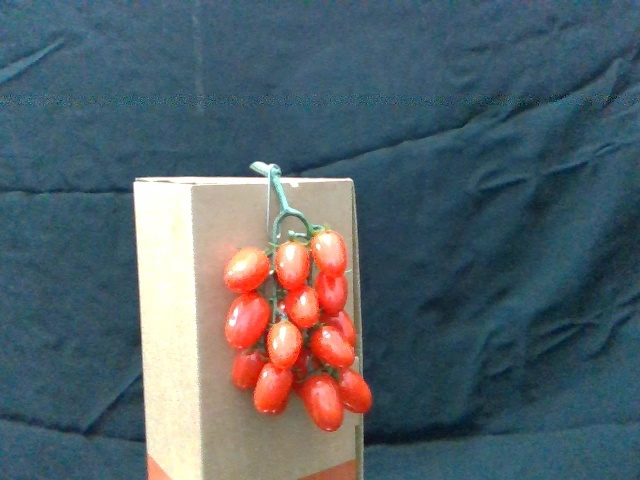tomato: (224, 295, 271, 351), (302, 374, 345, 434), (225, 247, 274, 294), (253, 365, 295, 418), (309, 325, 359, 369), (281, 283, 324, 333), (335, 369, 377, 418), (310, 225, 350, 275), (275, 238, 313, 290), (268, 321, 303, 371), (314, 269, 350, 317), (228, 349, 268, 388), (324, 306, 362, 347)
